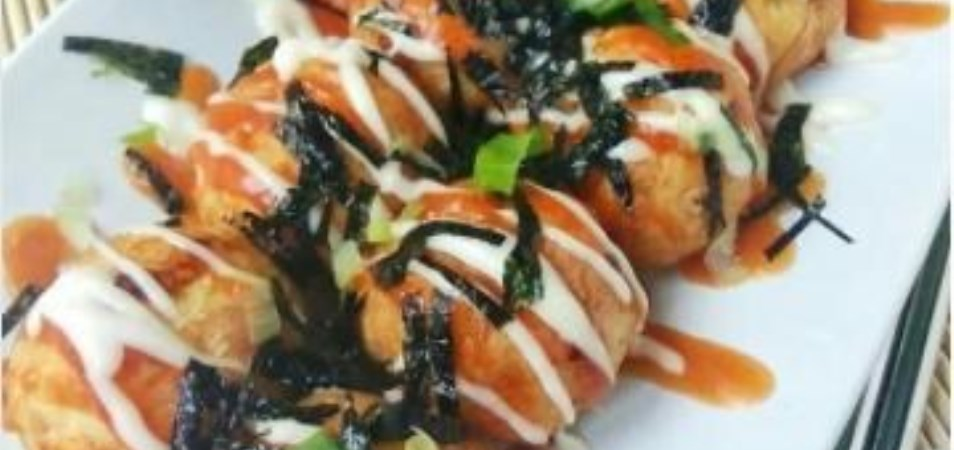takoyaki: (1, 1, 941, 450)
